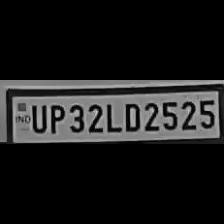2: (85, 100, 105, 132), (141, 98, 159, 132), (178, 98, 196, 130)
3: (65, 101, 85, 133)
5: (158, 98, 178, 130), (196, 97, 216, 129)
D: (120, 100, 140, 132)
L: (104, 100, 120, 132)
P: (46, 100, 64, 134)
U: (28, 101, 46, 133)
